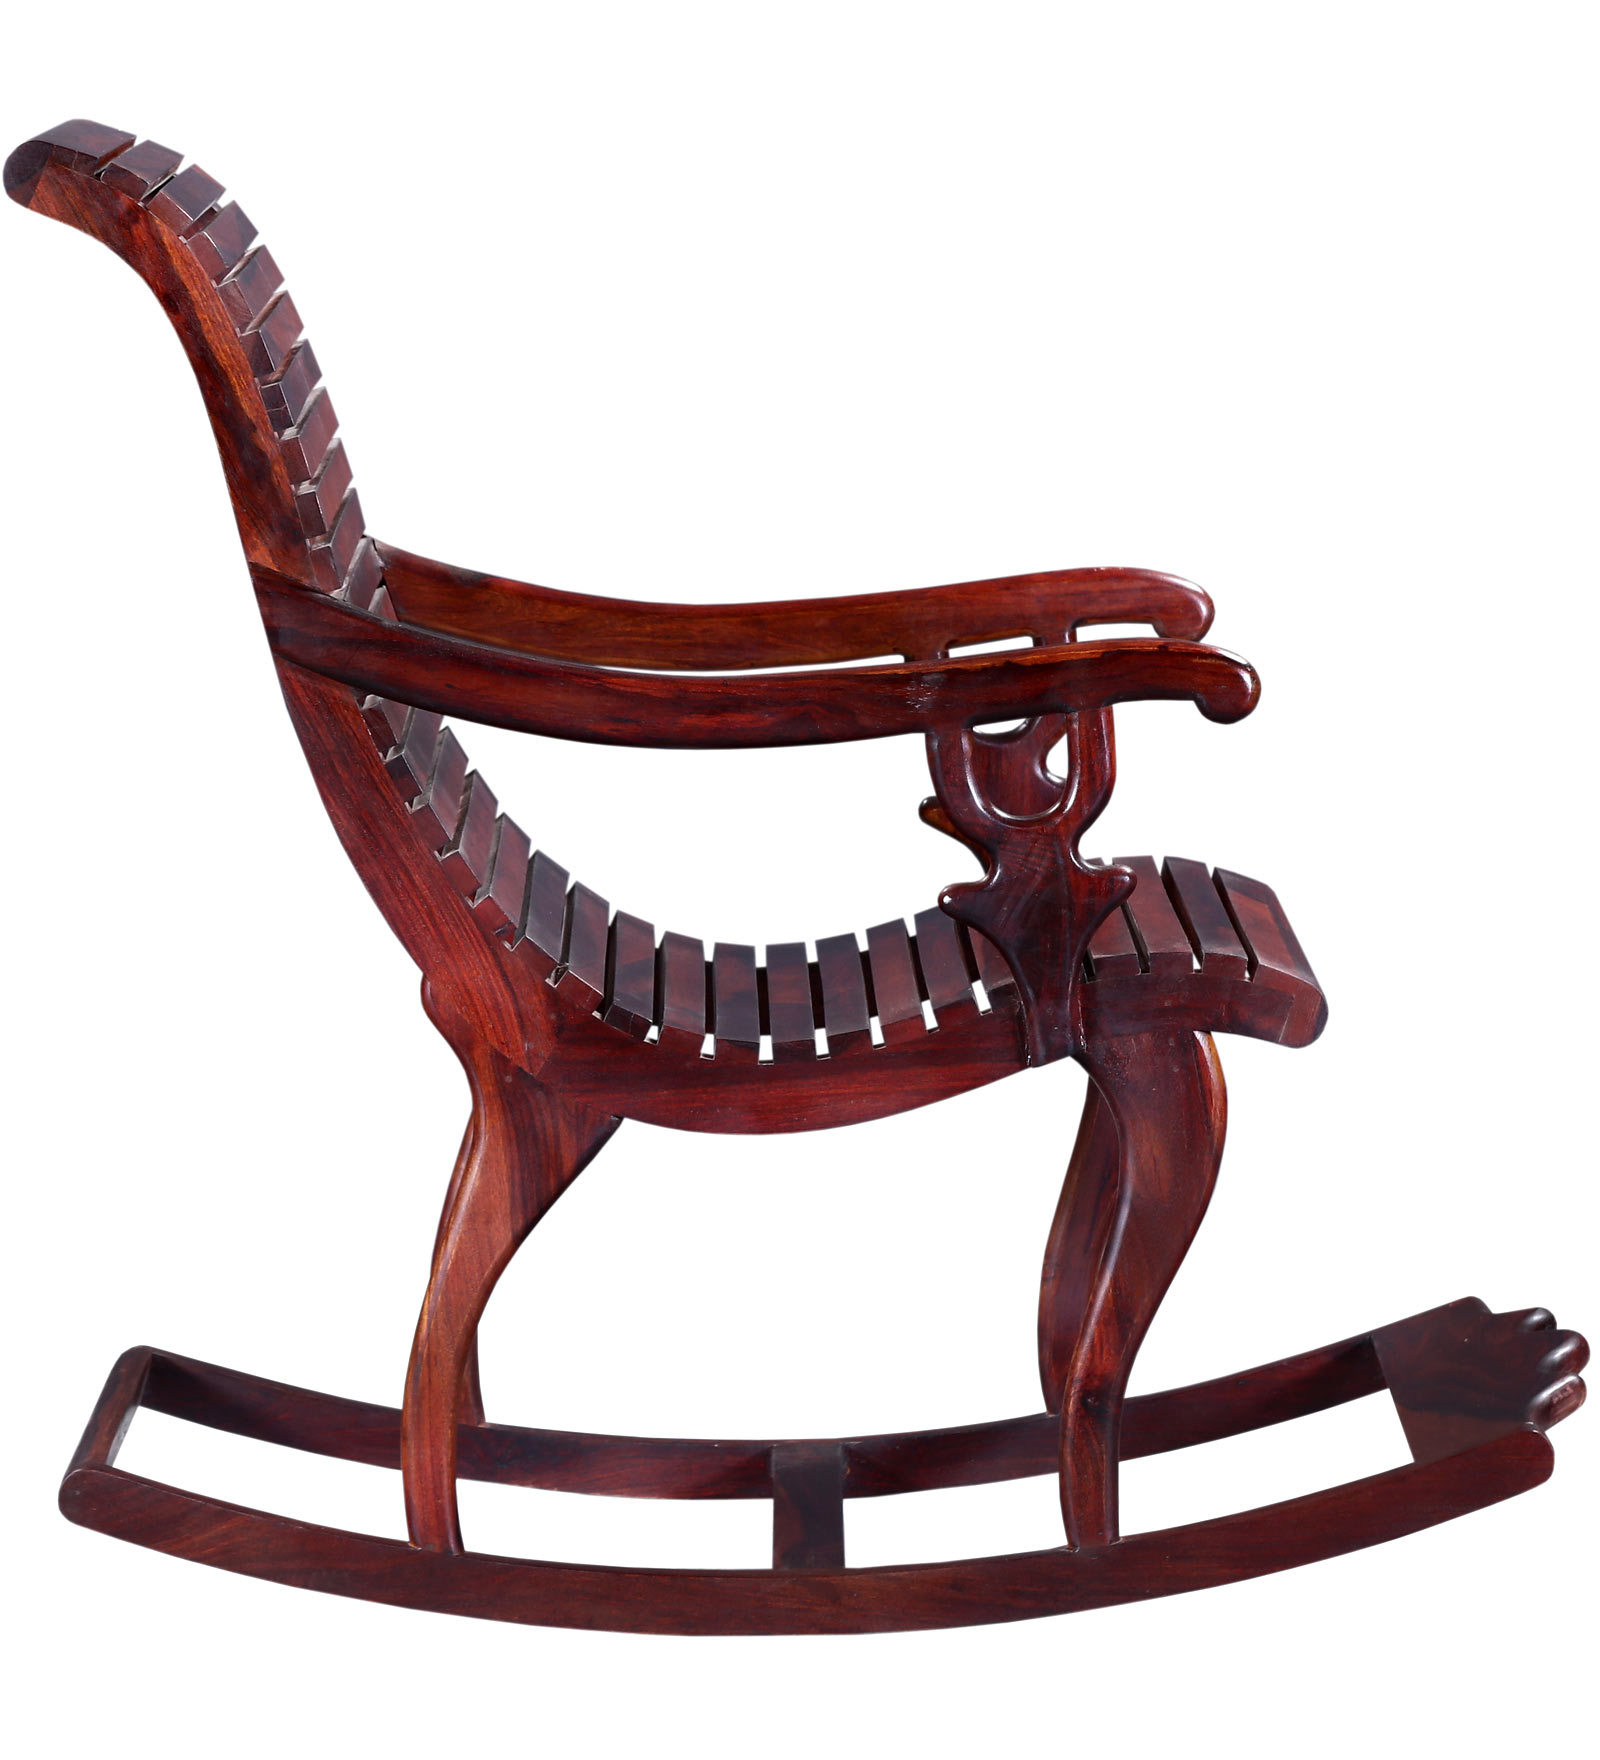Acklom Rocking Chair in Honey Oak Finish by Amberville: (6, 66, 1600, 1648)
